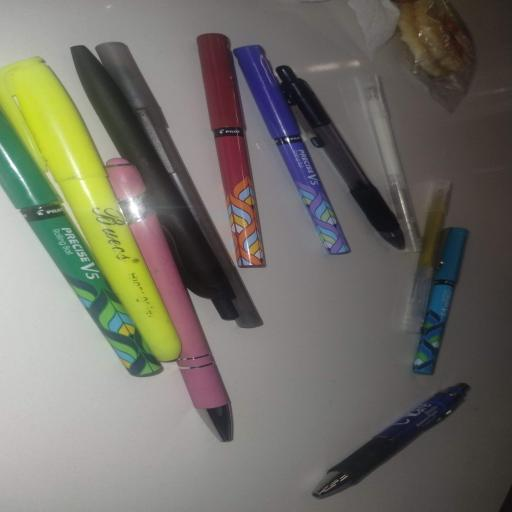pen: (0, 57, 180, 360), (96, 42, 262, 327), (71, 45, 237, 319), (0, 111, 161, 376), (106, 159, 232, 441), (234, 45, 350, 254), (276, 66, 404, 249), (313, 383, 469, 498), (197, 34, 264, 267), (357, 76, 421, 251), (413, 228, 467, 374), (405, 181, 451, 333)
